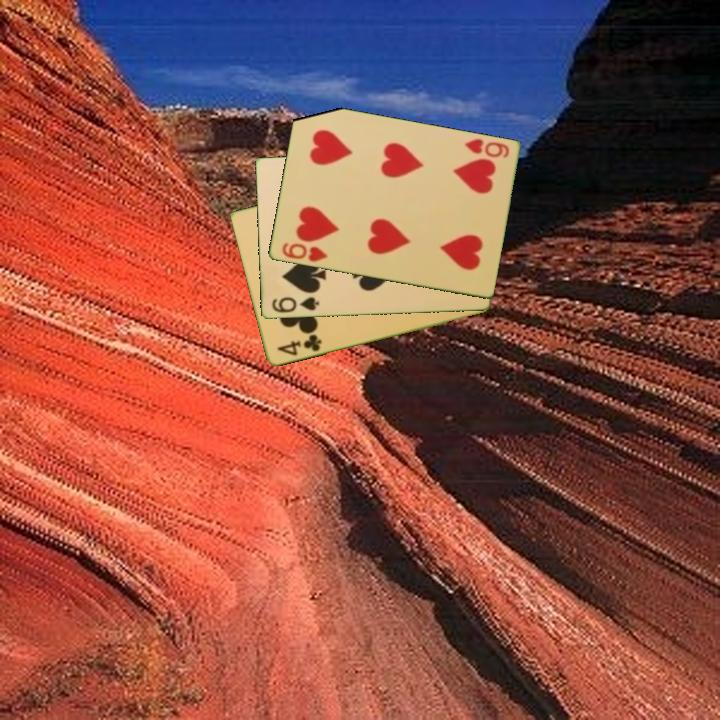4c: (273, 331, 324, 359)
6h: (278, 239, 330, 265), (461, 135, 512, 161)
6s: (268, 294, 322, 316)
